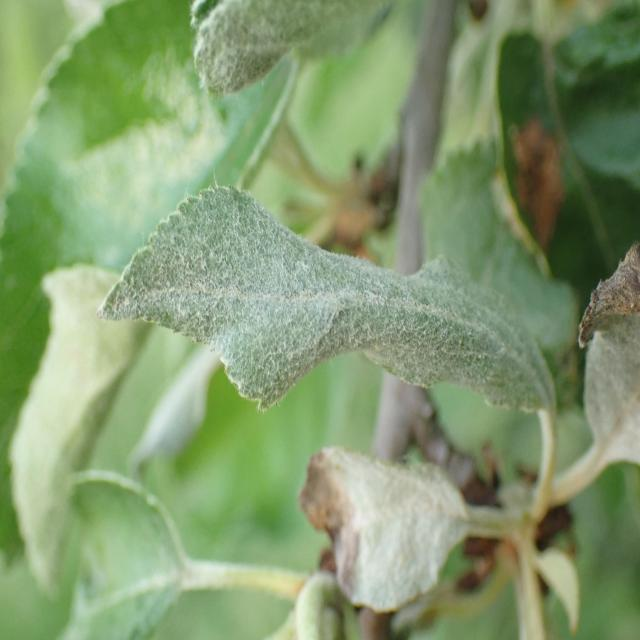Powdery_mildew: (91, 161, 564, 435), (303, 444, 497, 619), (169, 0, 394, 104), (569, 224, 640, 513)
